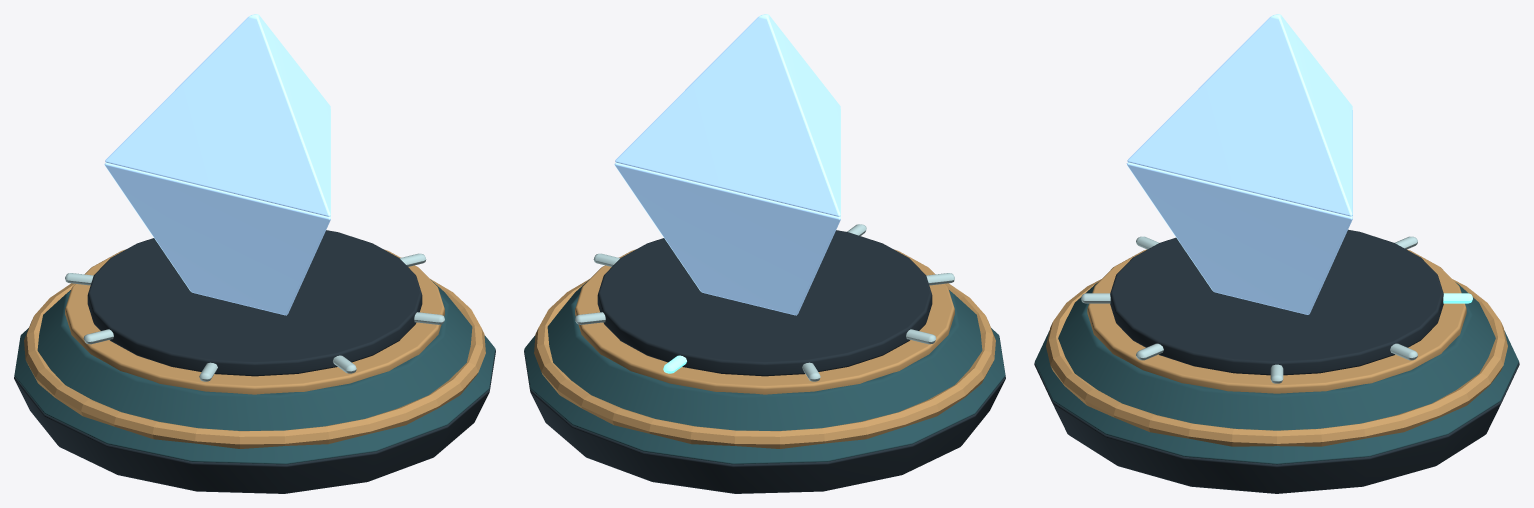
Rendered from prism.glb.
3 renders of one model, left to right at view 1: azimuth 30°, elevation 25°; view 2: azimuth 150°, elevation 25°; view 3: azimuth 270°, elevation 25°, orthographic.
Visible parts, largest first — view 1: prism; view 2: prism; view 3: prism.
Boxes of the visible parts, x1,y1,x2,y2 form: prism: [14, 14, 495, 493]; prism: [524, 14, 1005, 493]; prism: [1034, 14, 1519, 493].
Bounding box in the file's own units: 1.08 × 0.94 × 1.08.
